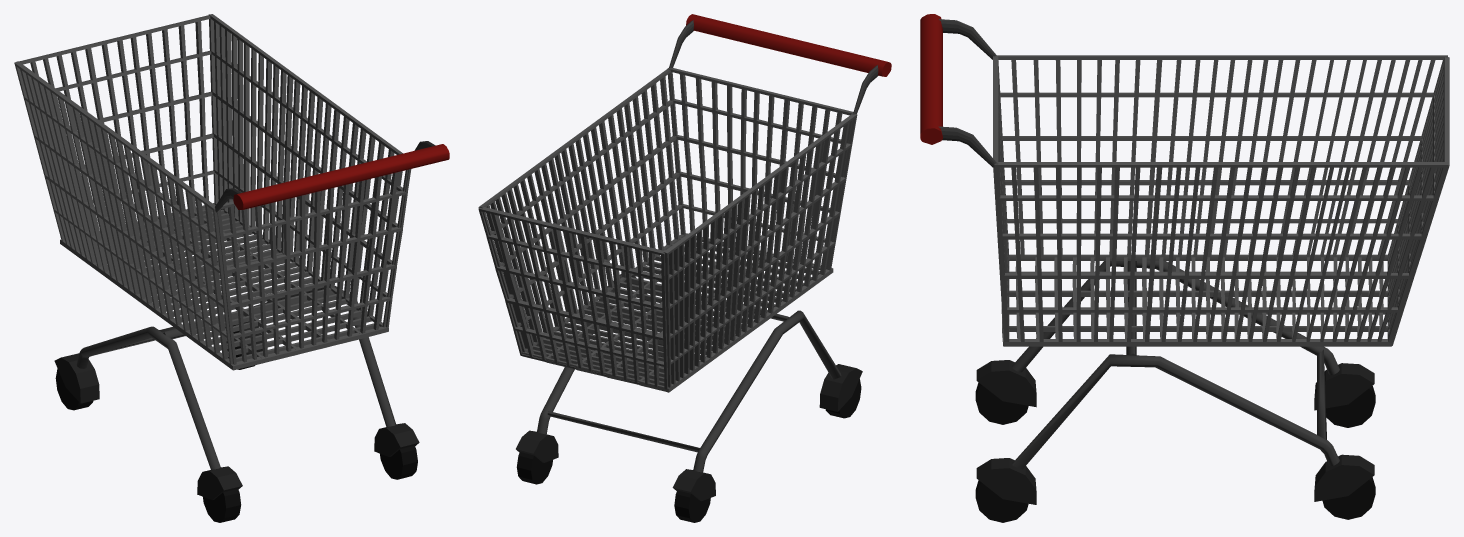
File: Trolley.fbx
3 renders of one model, left to right at view 1: azimuth 30°, elevation 25°; view 2: azimuth 150°, elevation 25°; view 3: azimuth 270°, elevation 25°, orthographic. The views are drawn at different scales.
Visible parts, largest first — view 1: pCube103; view 2: pCube103; view 3: pCube103.
Boxes of the visible parts, <box> form: pCube103: <box>14,14,449,522</box>; pCube103: <box>478,14,891,522</box>; pCube103: <box>920,14,1449,522</box>.
Bounding box in the file's own units: 1.85 × 3 × 3.61.
